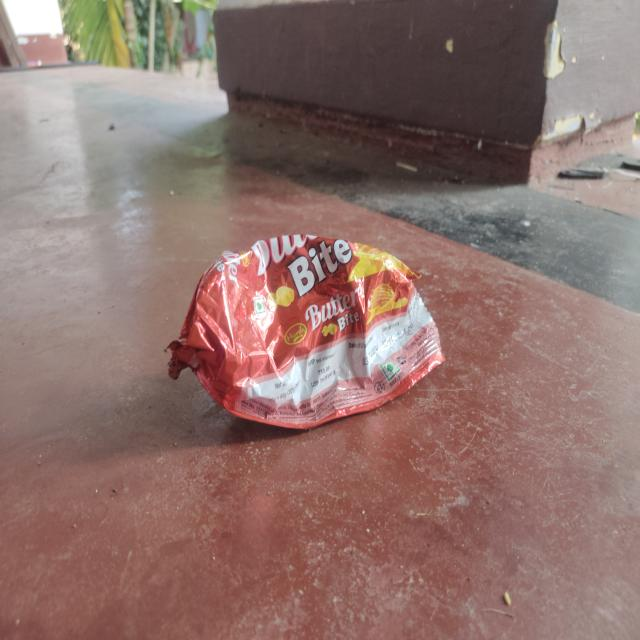plastic: (167, 230, 445, 433)
